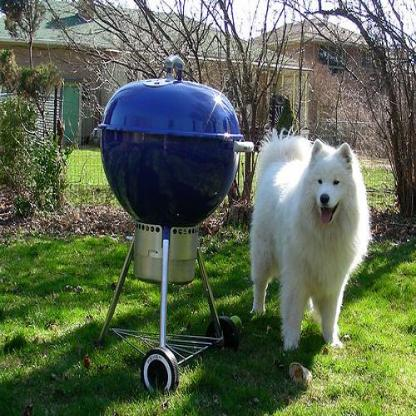Samoyed: (248, 129, 371, 364)
